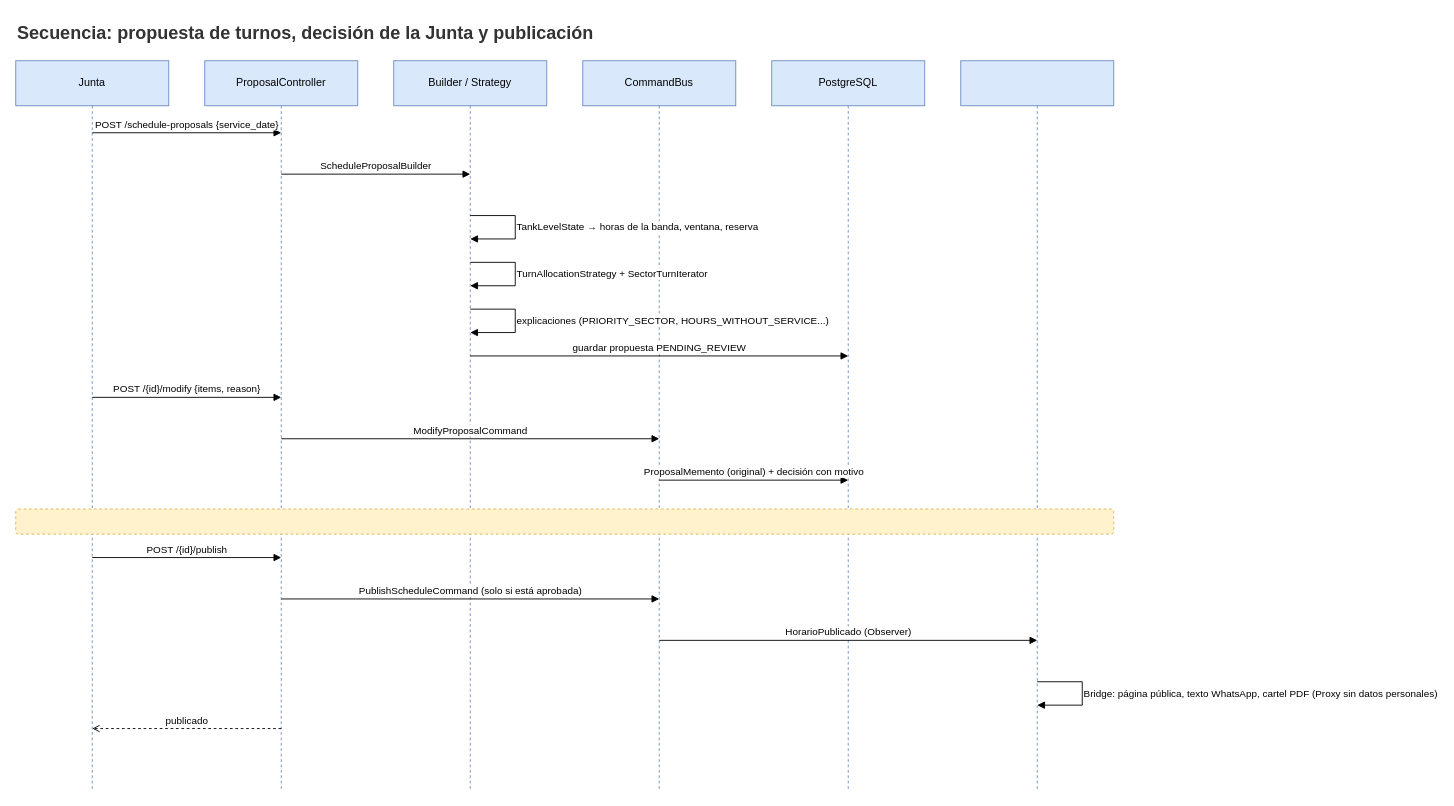
Image size: 1454x806. Some labels were removed from this diagram. The shapes that lost their labels are listed below. From the top down, each one's box as (x1, y1, x2, y2) in pixels, then its label:
(960, 60, 1114, 790): Publicación
(15, 508, 1114, 534): Sin motivo (10 a 500 caracteres): 422 REASON_REQUIRED
